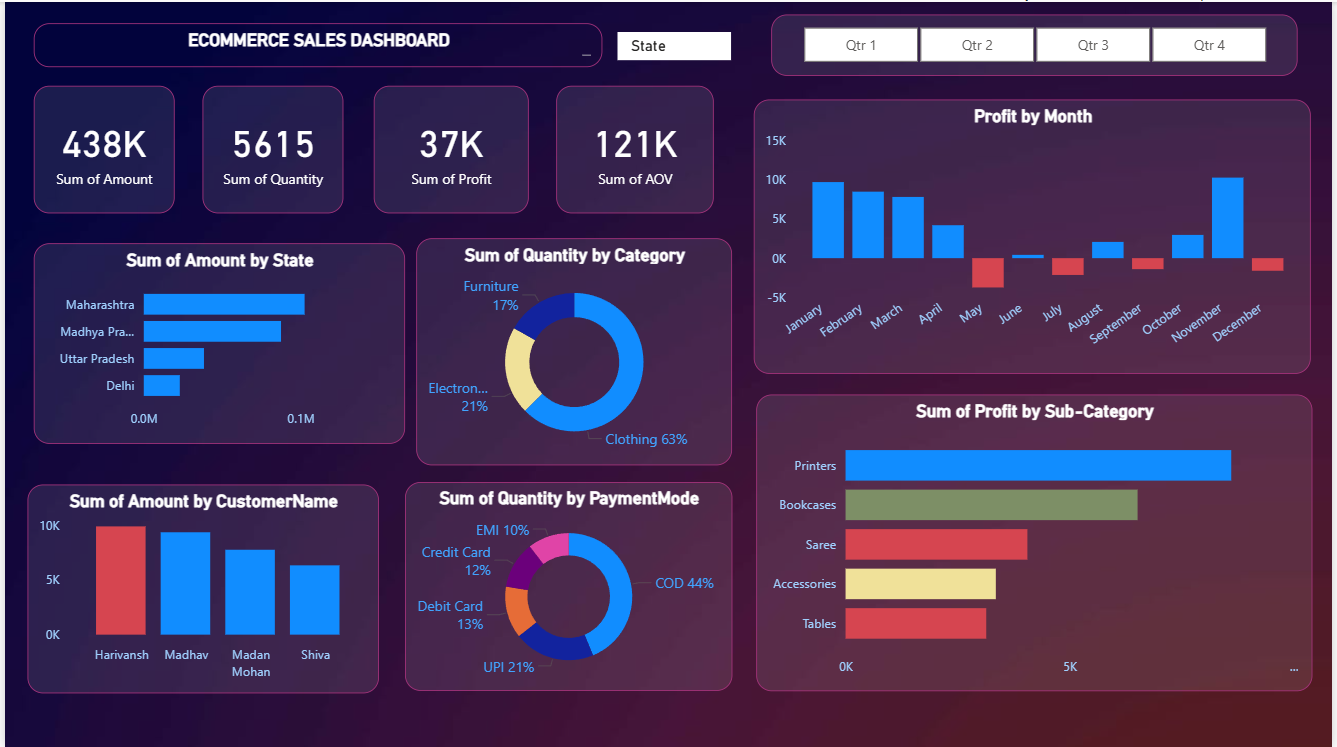

The dashboard page shown, as its layout file describes it:
{"tool":"powerbi","page":{"name":"ECOMMERCE SALES DASHBOARD","canvas":[1280,720],"ordinal":0},"visuals":[{"type":"columnChart","title":"Profit by Month","fields":{"Y":["Details.Profit"],"Category":["Orders.Order Date.Variation.Date Hierarchy.Month"]},"box":[723.2,94.7,537.9,264.8],"z":1000},{"type":"barChart","fields":{"Category":["Details.Sub-Category"],"Y":["Details.Profit"]},"box":[724.5,378.7,536.5,286.8],"z":2000},{"type":"donutChart","fields":{"Category":["Details.Category"],"Y":["Details.Quantity"]},"box":[396.6,227.8,304.6,219.6],"z":2001},{"type":"donutChart","fields":{"Category":["Details.PaymentMode"],"Y":["Details.Quantity"]},"box":[385.6,463.8,315.6,201.7],"z":2002},{"type":"card","fields":{"Values":["Details.Amount"]},"box":[27.4,81,135.8,123.5],"z":2003},{"type":"card","fields":{"Values":["Details.Quantity"]},"box":[190.7,81,135.8,123.5],"z":2004},{"type":"card","fields":{"Values":["Details.Profit"]},"box":[355.4,81,149.6,123.5],"z":2005},{"type":"card","fields":{"Values":["Details.AOV"]},"box":[532.4,81,152.3,123.5],"z":2006},{"type":"barChart","fields":{"Y":["Details.Amount"],"Category":["Orders.State"]},"box":[27.4,233.3,358.1,193.5],"z":2007},{"type":"columnChart","fields":{"Category":["Orders.CustomerName"],"Y":["Details.Amount"]},"box":[22,465.2,338.9,201.7],"z":2008},{"type":"slicer","fields":{"Values":["Orders.Order Date.Variation.Date Hierarchy.Quarter"]},"box":[739.6,12.3,507.7,59],"z":2009},{"type":"slicer","fields":{"Values":["Orders.State"]},"box":[591.4,28.8,109.8,27.4],"z":2010},{"type":"textbox","title":"ECOMMERCE SALES DASHBOARD","box":[27.4,20.6,548.9,42.5],"z":2011}]}

Visuals, with their boxes in screenshot pixels (x1, y1, x2, y2), scaled from the page's 1280x720 canvas onto the 1337x747 screenshot:
"Profit by Month" columnChart: 755/98/1317/373
barChart - Details.Sub-Category x Details.Profit: 757/393/1317/690
donutChart - Details.Category x Details.Quantity: 414/236/732/464
donutChart - Details.PaymentMode x Details.Quantity: 403/481/732/690
card - Details.Amount: 29/84/170/212
card - Details.Quantity: 199/84/341/212
card - Details.Profit: 371/84/527/212
card - Details.AOV: 556/84/715/212
barChart - Details.Amount x Orders.State: 29/242/403/443
columnChart - Orders.CustomerName x Details.Amount: 23/483/377/692
slicer - Orders.Order Date.Variation.Date Hierarchy.Quarter: 773/13/1303/74
slicer - Orders.State: 618/30/732/58
"ECOMMERCE SALES DASHBOARD" textbox: 29/21/602/65
